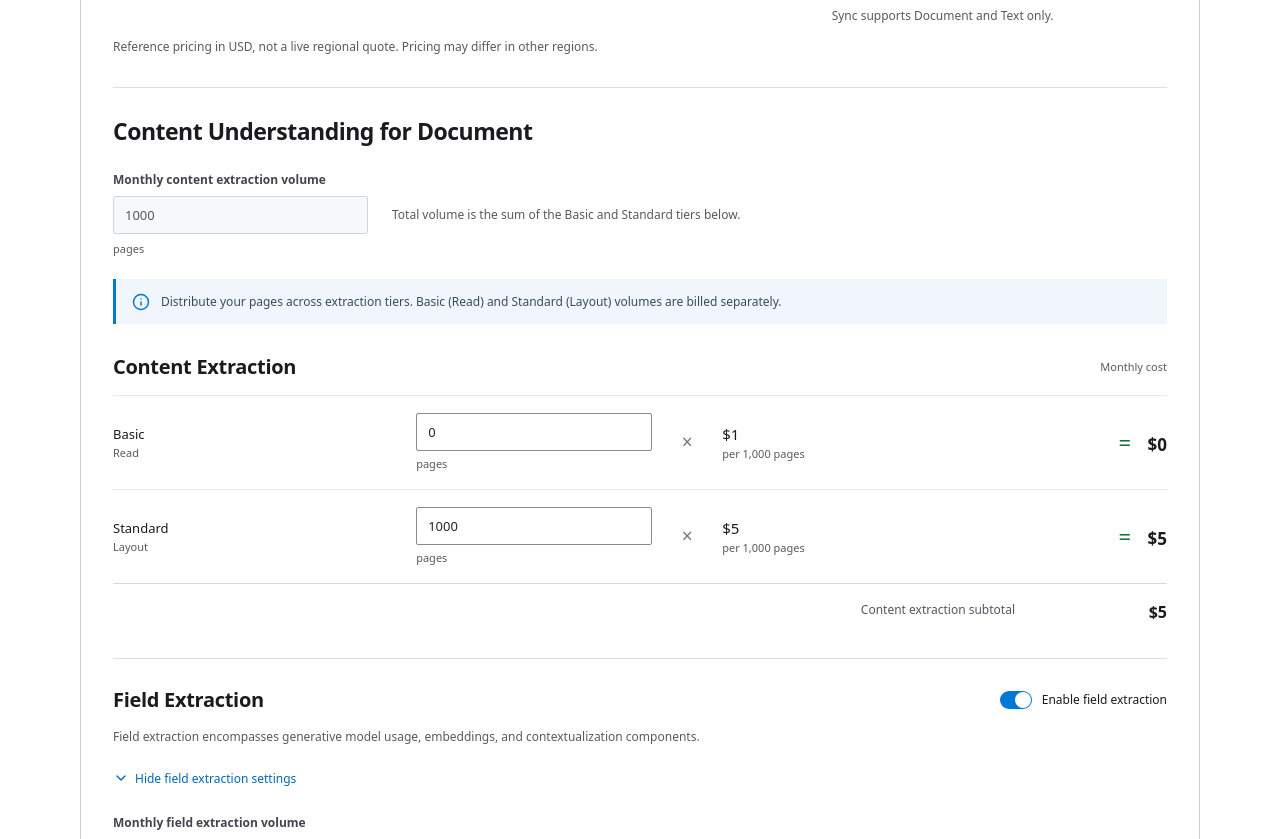
Test: Pricing calculator UI › adds document tier volumes and uses the sum for default field extraction
(page scrolled)
Replace the text in the 1st number field named "Basic volume" with "3000" at (534, 432), box 416,413 -> 652,451
(page scrolled)
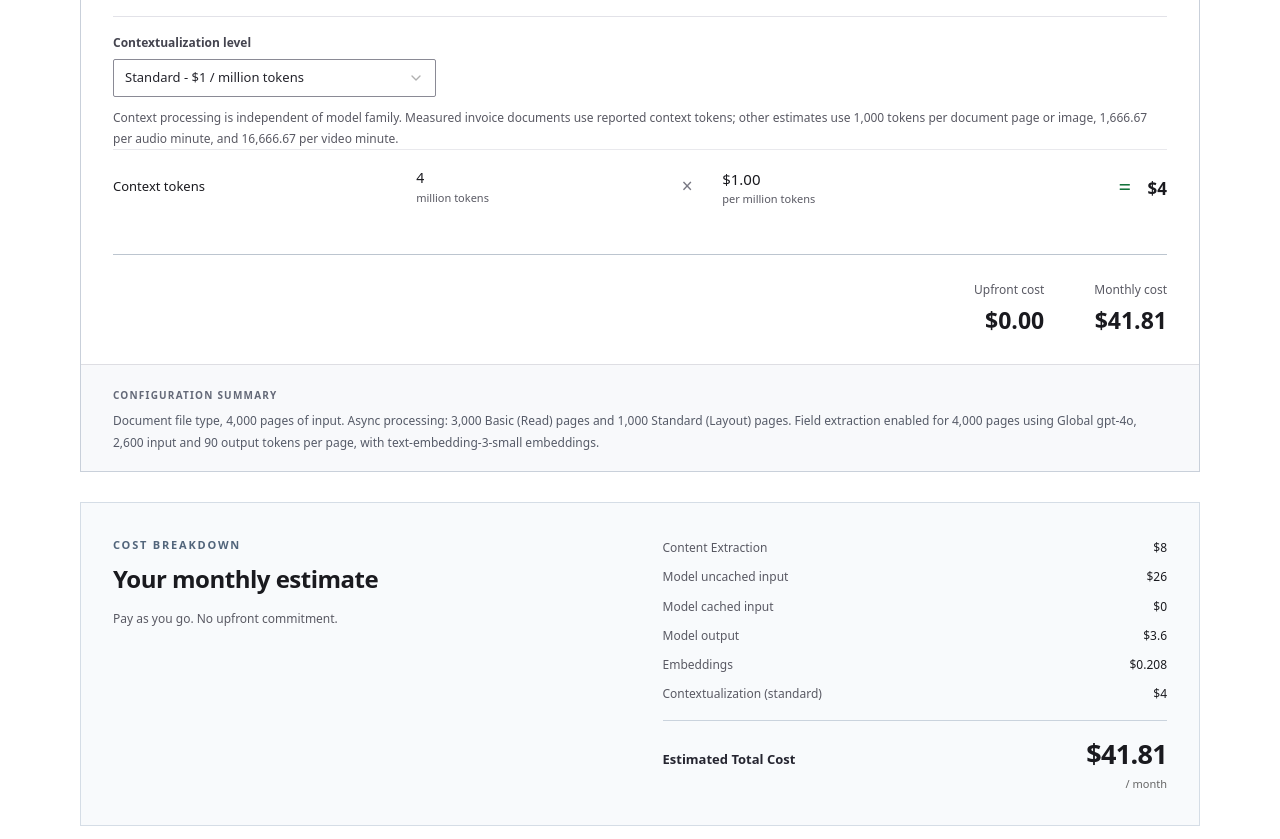
expect the text "$8" is shown: met, box 1153,538 -> 1167,557
expect the text "Document file type, 4,000 pages of input" is shown: met, box 113,412 -> 1137,450
